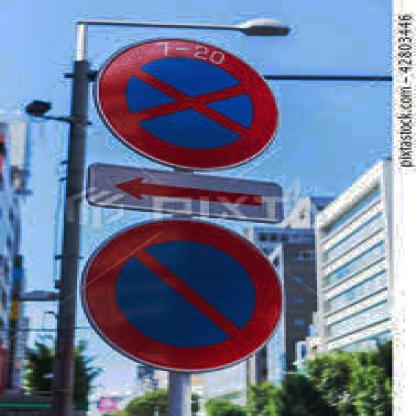No parking: (84, 208, 275, 368)
